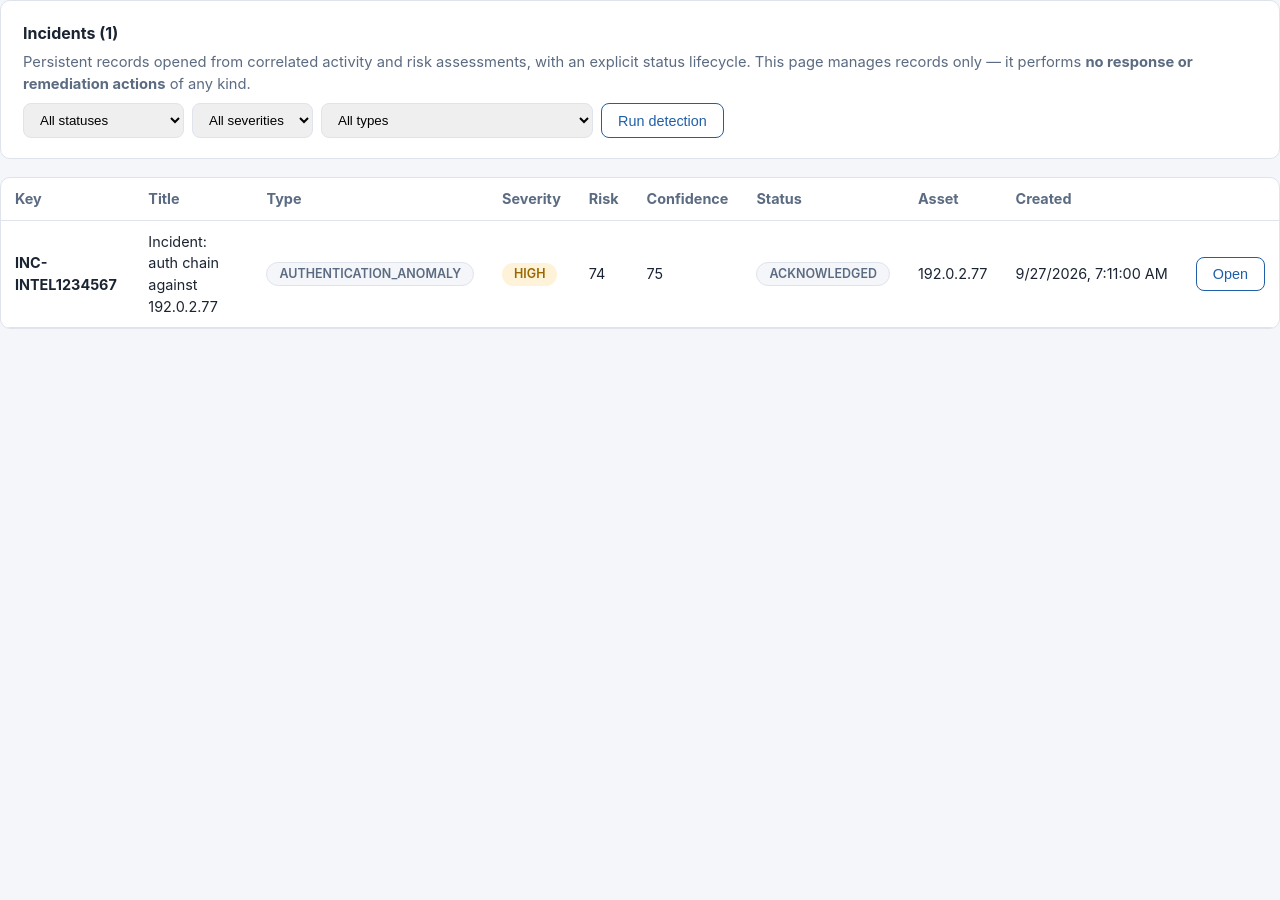
Scenario: Incident lifecycle hardening (Phase 3, Step 38) › shows exactly the permitted transitions for ACKNOWLEDGED
Step 1. Click the button "Open" → point(1230, 274), box [1196,257,1265,291]
(page scrolled)
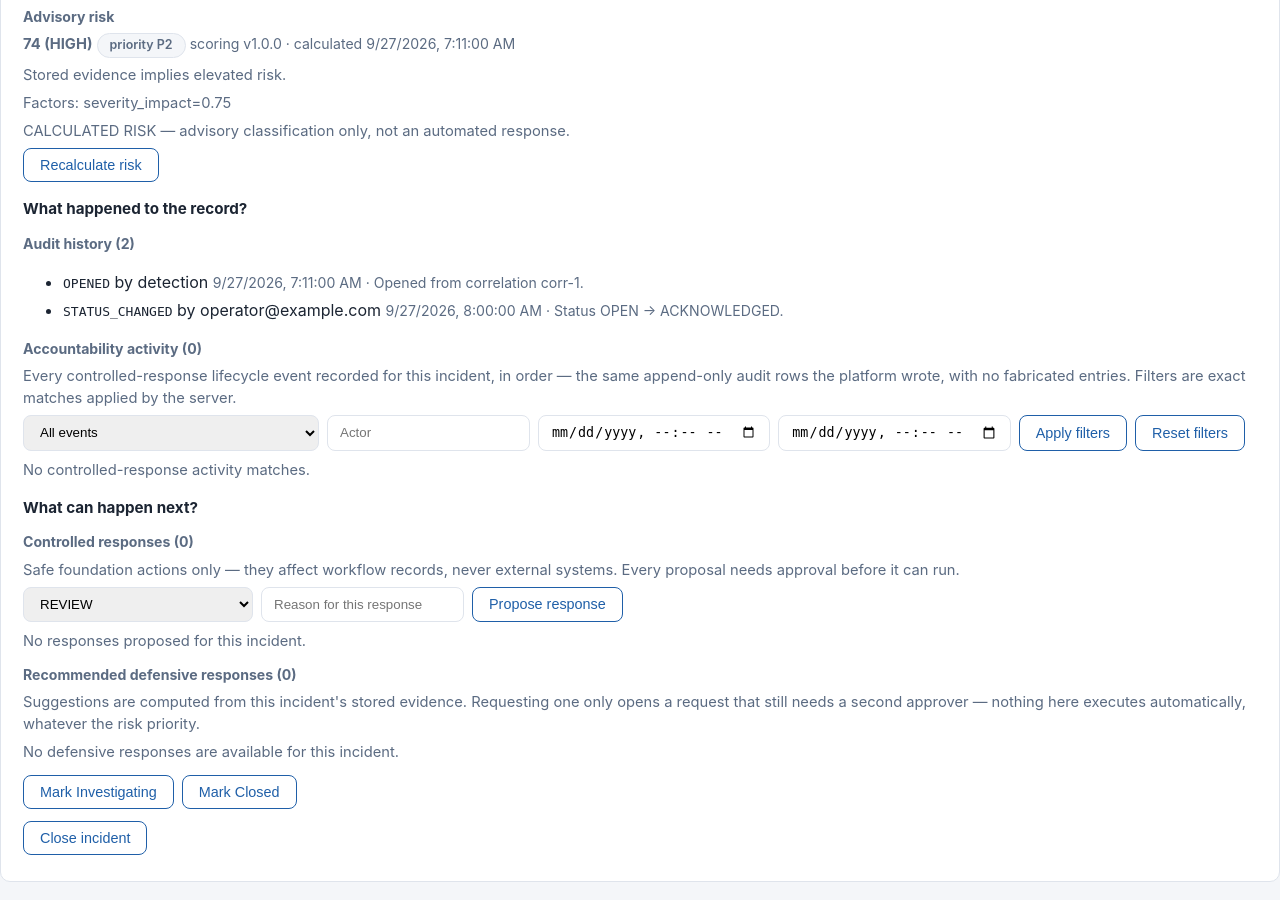
Expected: the button "Mark Investigating" is shown, [23,775,174,809]
Expected: the button "Mark Closed" is shown, [182,775,297,809]
